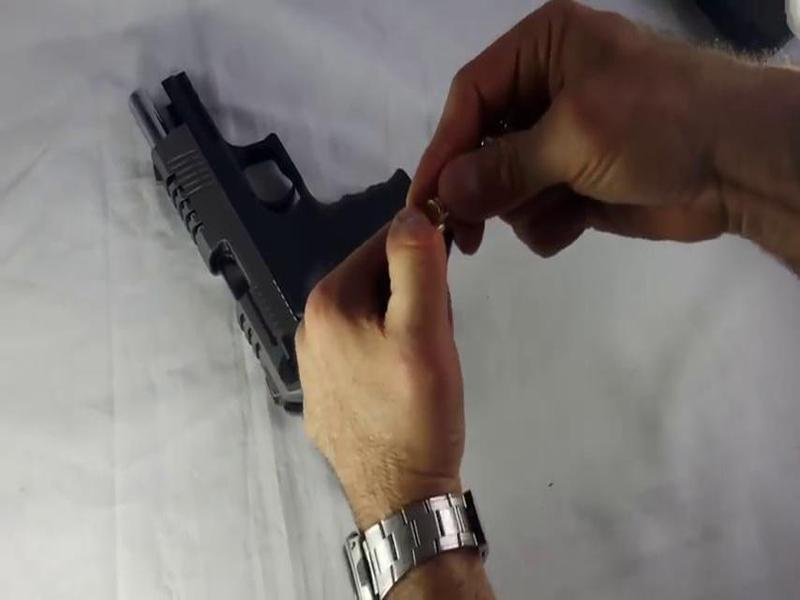Pistola: (128, 66, 428, 423)
